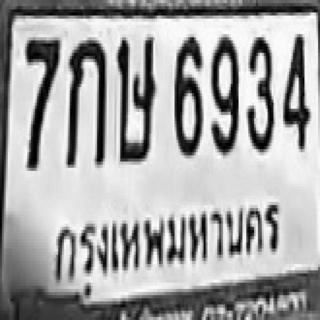A01: (64, 37, 105, 165)
A39: (115, 34, 154, 162)
N03: (244, 34, 274, 149)
N04: (281, 31, 308, 149)
N06: (173, 34, 202, 155)
N07: (25, 37, 60, 168)
N09: (209, 34, 237, 152)
P04: (46, 204, 287, 287)
